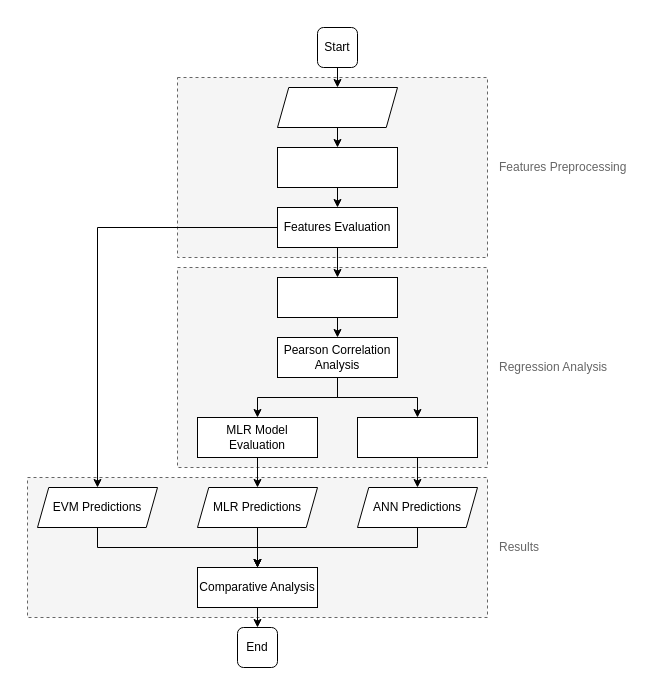
Some shapes in this 654 by 694 pixel diagram are drawn without their labels. The shapes that lost their labels are listed below. From the top down, each one's centre as x and y in pixels, then its label:
point (337, 107): Data Collection
point (337, 167): Metrics Scaling
point (337, 297): Generalized Linear Model Selection
point (417, 437): ANN Model Evaluation
